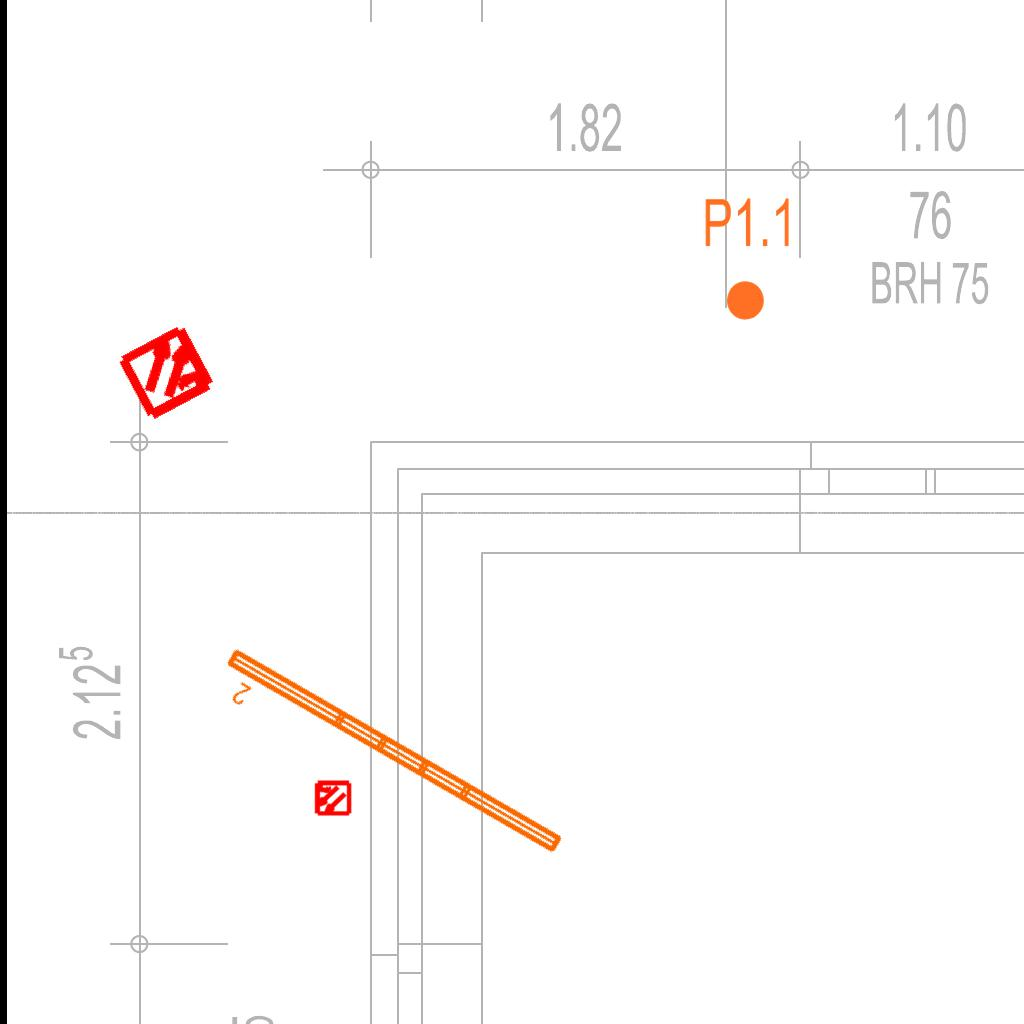Ambulanz_Pendelleuchte_LED: (206, 641, 571, 883)
Downlight_LED_Einbauleuchten_Flur: (702, 195, 795, 323)
OT_Multisensormelder_(Kombination_RMO_WMD): (92, 295, 245, 448), (304, 770, 360, 826)
